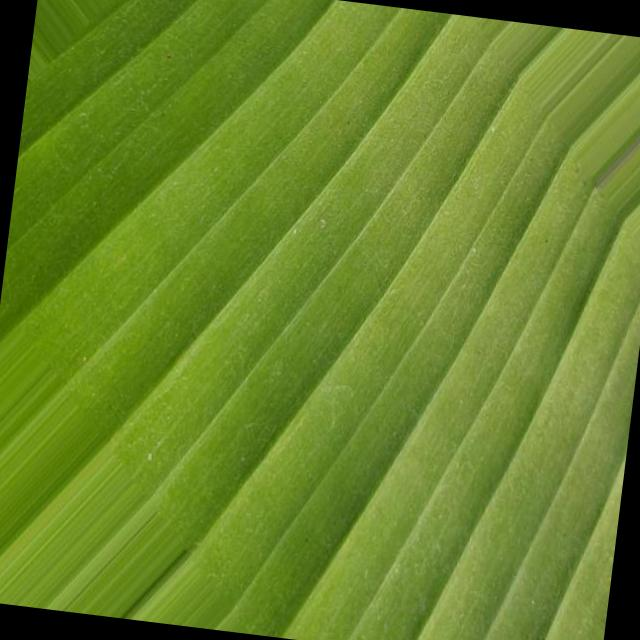Banana_Healthy: (92, 96, 557, 516)
